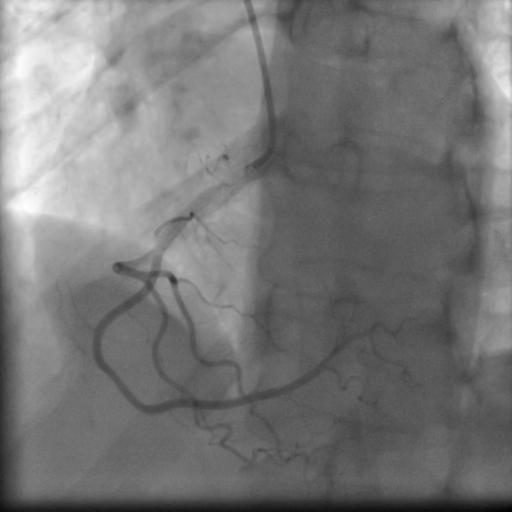Stenosis: (105, 358, 136, 407)
